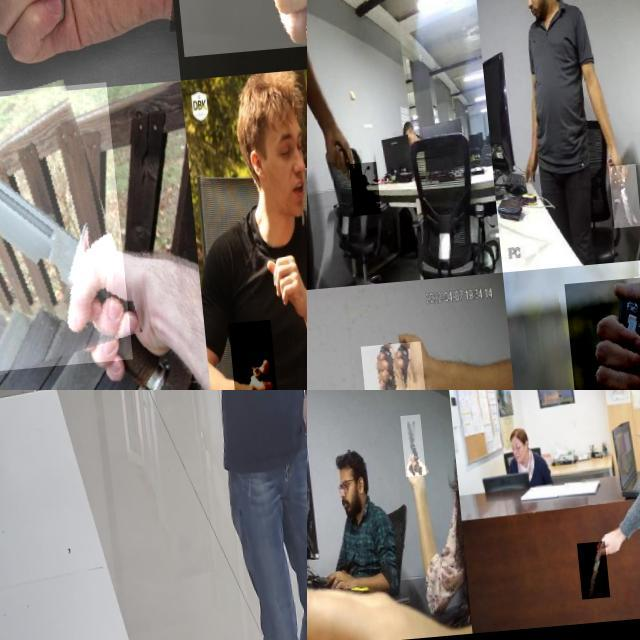-: (0, 86, 120, 376), (156, 0, 307, 137), (0, 0, 107, 105), (557, 283, 640, 390), (352, 345, 426, 390), (216, 327, 264, 390), (604, 173, 636, 237), (566, 550, 598, 608), (345, 166, 376, 220), (392, 420, 416, 482), (313, 390, 337, 415)
gun-knife-thesis - v11 Yolov5 augmented: (200, 390, 239, 448)
